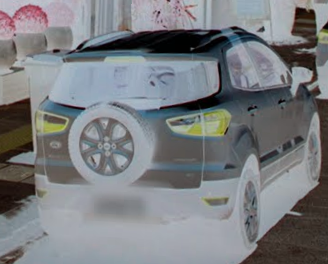car: (33, 28, 322, 250)
